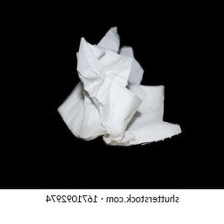tissue: (51, 21, 186, 150)
